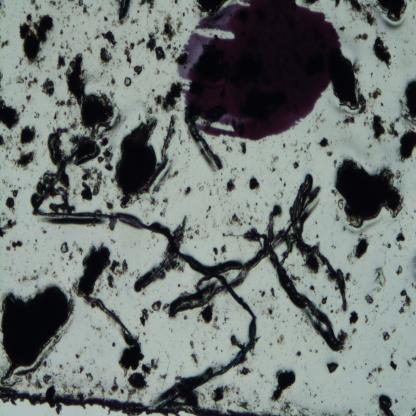Background material: (0, 278, 74, 378), (29, 132, 100, 219), (111, 115, 177, 206), (334, 158, 404, 230), (64, 55, 122, 134), (331, 52, 368, 124), (19, 11, 59, 67), (74, 244, 110, 294), (396, 78, 416, 165), (245, 394, 310, 416), (146, 22, 178, 66), (228, 212, 265, 244), (15, 122, 38, 171), (127, 358, 160, 392), (268, 366, 298, 403), (33, 358, 59, 398), (119, 341, 144, 379), (156, 82, 182, 116), (374, 0, 408, 25), (80, 164, 102, 202), (374, 113, 400, 144), (347, 0, 376, 27), (370, 34, 392, 68), (139, 298, 162, 327), (106, 260, 128, 290), (0, 99, 19, 131), (200, 304, 221, 332), (196, 0, 226, 18), (123, 40, 144, 65), (99, 139, 113, 173), (0, 132, 16, 161), (196, 176, 218, 197), (143, 84, 157, 116), (352, 236, 370, 260), (38, 75, 56, 98), (376, 392, 394, 415), (397, 289, 412, 316), (116, 3, 132, 28), (82, 25, 94, 57), (14, 74, 38, 90), (372, 268, 386, 294), (99, 29, 118, 48), (58, 21, 70, 51), (364, 364, 382, 383), (7, 186, 20, 211), (99, 46, 115, 66), (54, 95, 74, 111), (17, 269, 38, 283), (139, 0, 156, 17), (0, 218, 17, 235), (347, 308, 360, 329), (221, 136, 236, 154), (61, 244, 76, 262), (110, 374, 121, 396), (325, 359, 340, 375), (208, 244, 228, 256), (394, 232, 406, 251), (77, 0, 91, 16), (158, 6, 171, 23), (107, 69, 118, 89), (103, 193, 115, 211), (186, 226, 201, 240), (56, 56, 70, 71), (269, 154, 280, 172), (341, 270, 355, 284), (369, 88, 382, 103), (10, 239, 25, 252), (0, 62, 8, 86), (0, 0, 12, 16), (175, 10, 186, 27), (300, 145, 311, 162), (317, 134, 330, 148), (133, 63, 143, 80), (354, 30, 368, 42), (30, 0, 44, 11), (261, 307, 275, 318), (249, 177, 260, 191), (226, 180, 237, 194), (230, 165, 240, 180), (190, 352, 200, 367), (237, 366, 252, 376), (64, 13, 75, 26), (184, 183, 192, 200), (187, 339, 198, 351), (382, 331, 392, 343), (51, 106, 59, 121), (324, 148, 334, 160), (296, 349, 304, 363), (364, 294, 374, 305), (0, 37, 10, 48), (52, 0, 61, 12), (395, 264, 404, 276), (130, 16, 141, 25), (42, 226, 51, 237), (410, 354, 416, 369), (258, 289, 267, 299), (333, 0, 341, 11), (92, 29, 100, 40), (86, 372, 94, 383), (124, 76, 131, 88), (389, 361, 397, 371), (292, 160, 300, 170), (240, 142, 246, 155), (389, 348, 395, 360), (346, 406, 353, 416), (35, 110, 42, 120), (100, 14, 110, 21), (321, 295, 327, 306), (276, 190, 284, 198), (339, 23, 346, 32), (280, 178, 286, 188), (20, 103, 26, 113), (270, 288, 276, 298), (26, 94, 32, 102), (240, 167, 246, 174), (412, 406, 416, 416), (174, 0, 180, 5)
Cellulose filter fibre: (169, 210, 294, 318), (265, 204, 344, 350), (290, 173, 350, 311), (134, 215, 188, 290), (78, 291, 134, 343), (185, 124, 225, 171)
Cotton: (80, 207, 258, 394)
Edge of slide: (0, 386, 246, 416)
Pen: (172, 0, 338, 144)
